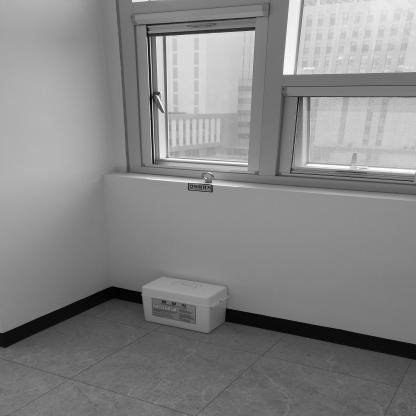DDL: (142, 278, 227, 335)
